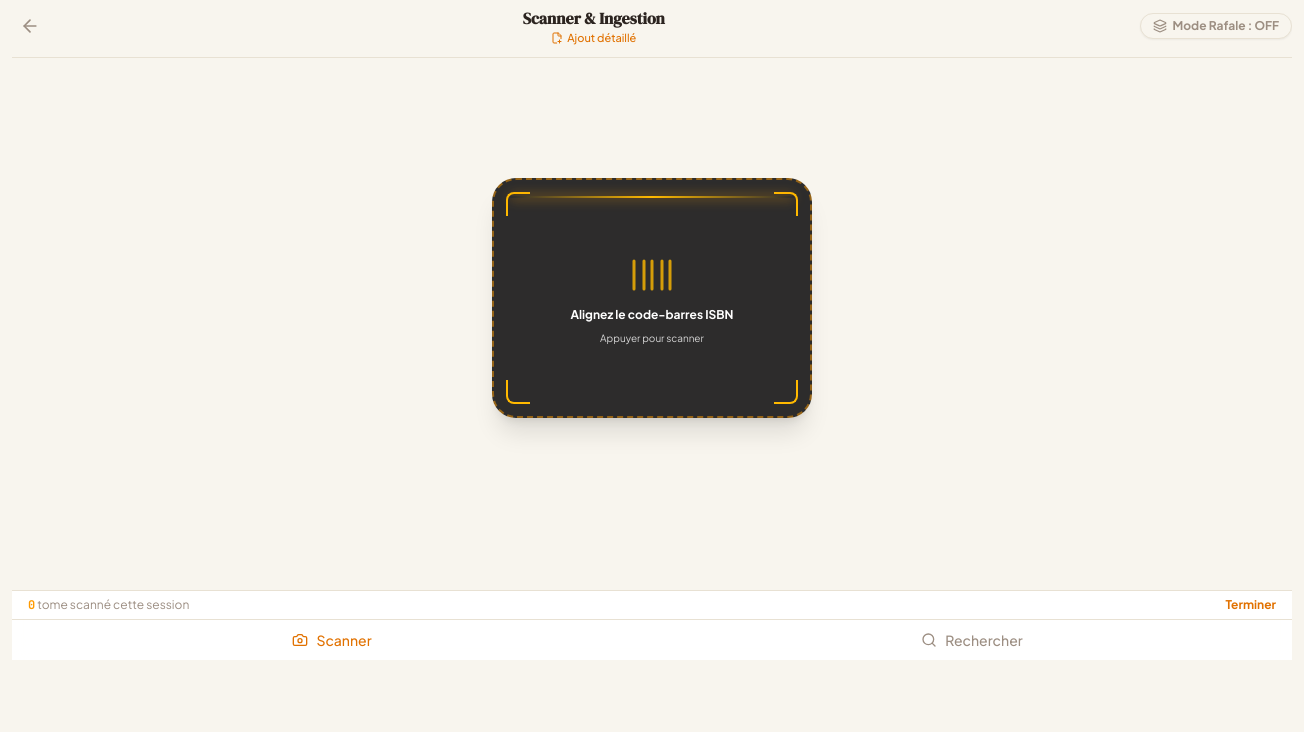
QuickAdd Page › switches between scan and search tabs
Click the button "Rechercher" at (972, 640), box [652,620,1292,660]
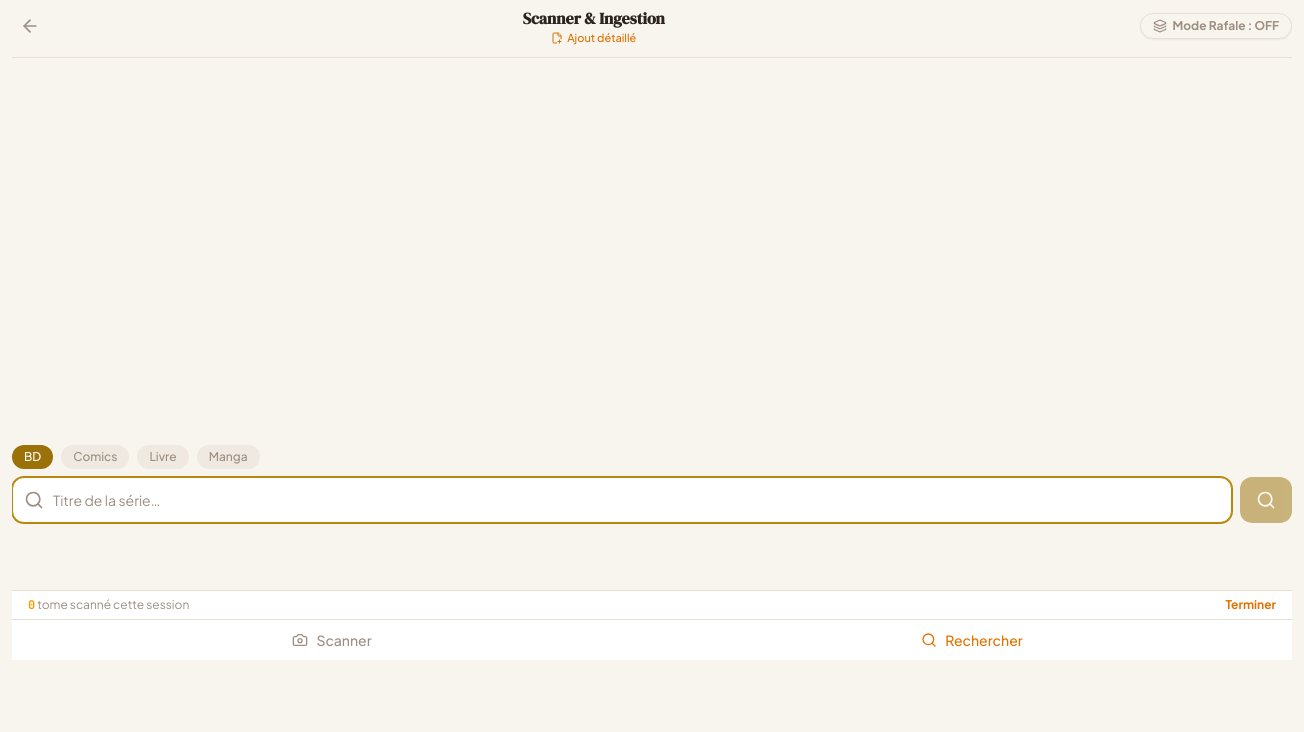
expect the field with placeholder "Titre de la série…" is shown: met, box [12,477,1232,523]
Click the button "Scanner" at (332, 640), box [12,620,652,660]
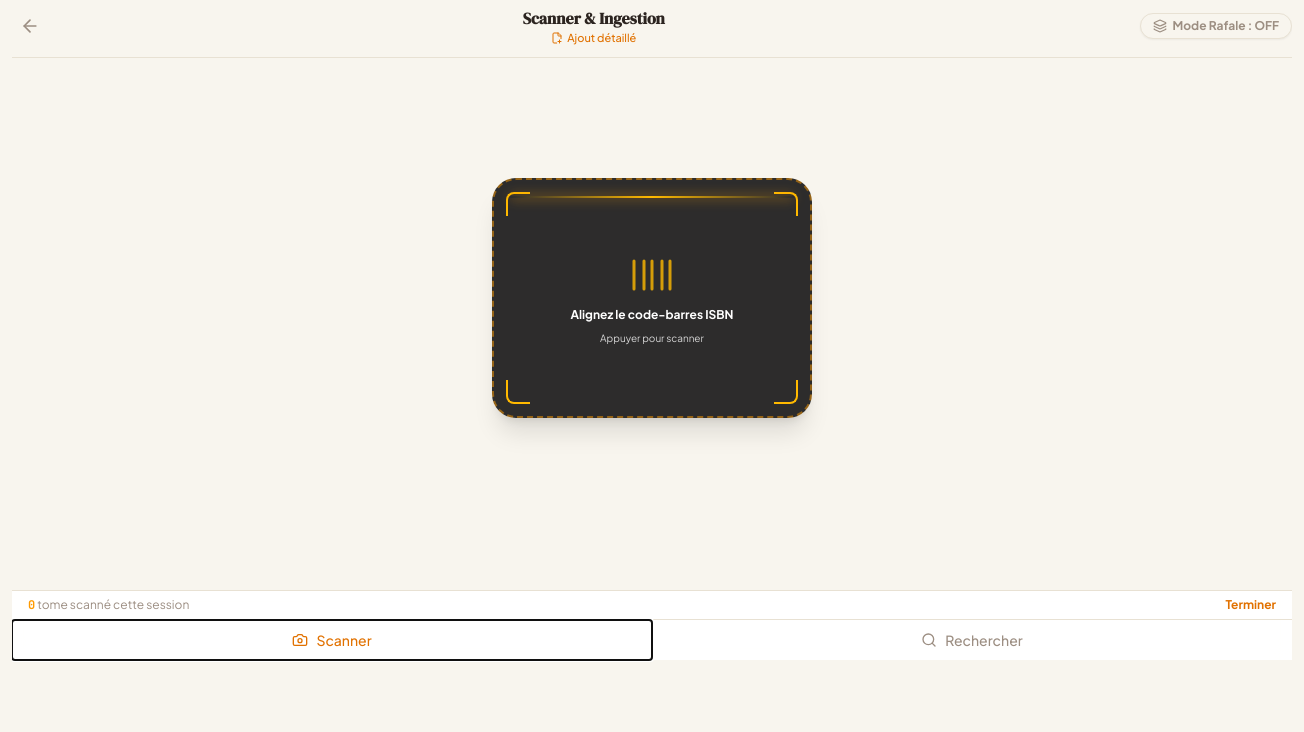
expect the text "Alignez le code-barres ISBN" is shown: met, box [570,307,734,323]
